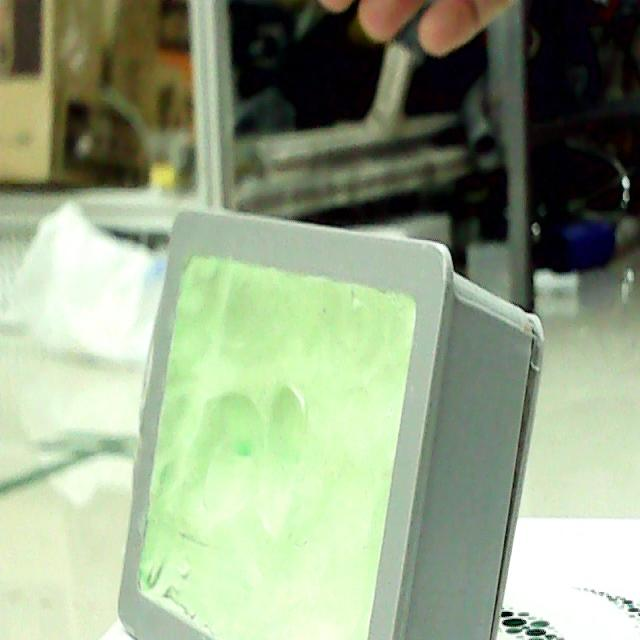block: (110, 207, 538, 640)
